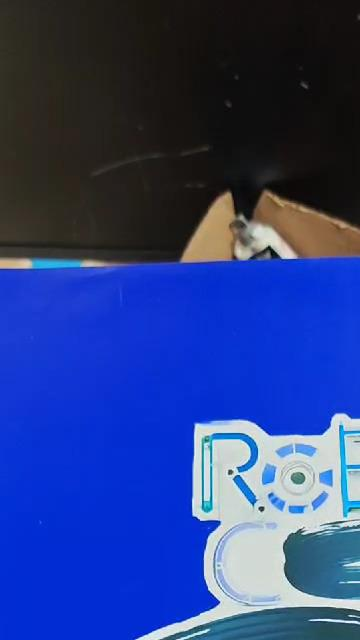B_R1: (8, 414, 360, 640)
